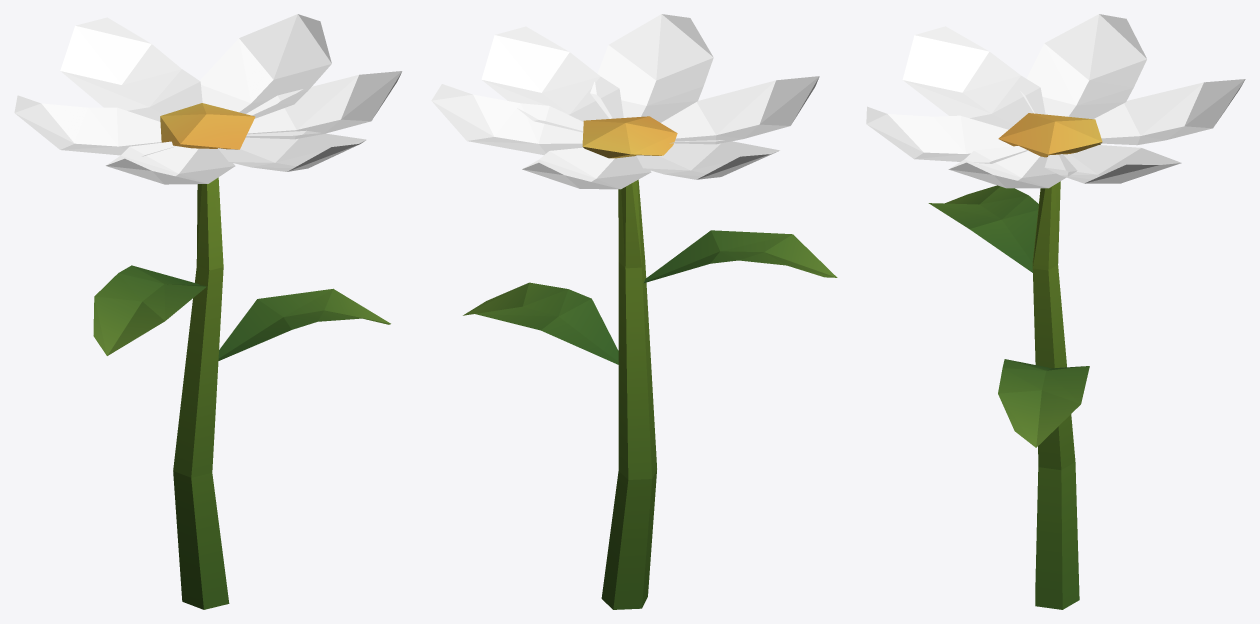
Rendered from Flower_01.fbx.
3 views of the same model, side by side, from view 1: azimuth 30°, elevation 25°; view 2: azimuth 150°, elevation 25°; view 3: azimuth 270°, elevation 25° (orthographic).
Parts seen in each view (by area): view 1: Flower_01; view 2: Flower_01; view 3: Flower_01.
Boxes of the visible parts, x1,y1,x2,y2 form: Flower_01: (14,14,402,609); Flower_01: (431,14,837,609); Flower_01: (866,14,1245,609).
Size of the model in its own units: 0.2764 by 0.394 by 0.2668.
